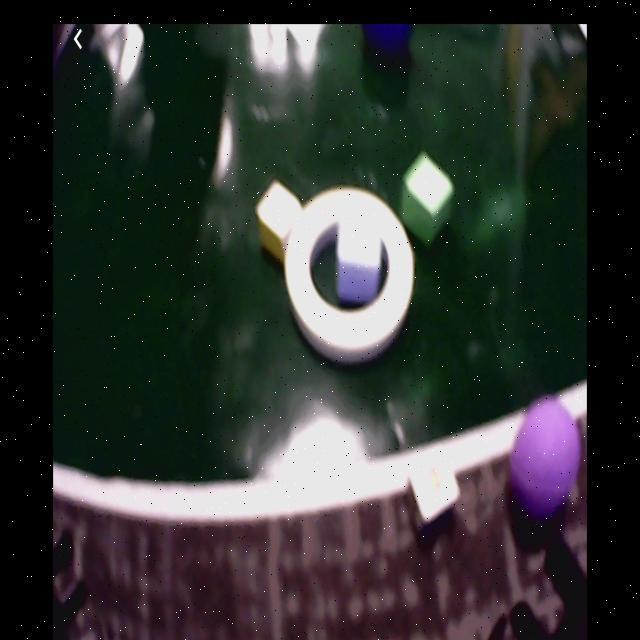ball: (513, 398, 583, 511), (362, 24, 412, 50)
